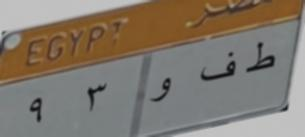3: (82, 78, 110, 116)
9: (23, 91, 49, 130)
Taa: (244, 40, 277, 75)
faa: (196, 51, 239, 87)
waw: (149, 72, 174, 108)
